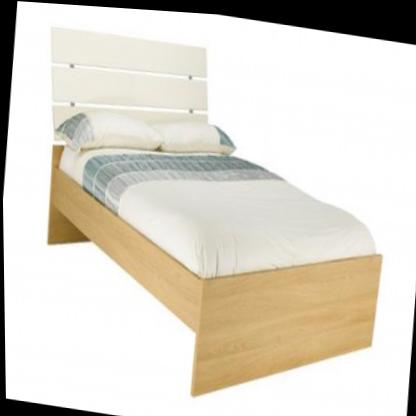Bed: (20, 20, 400, 416)
